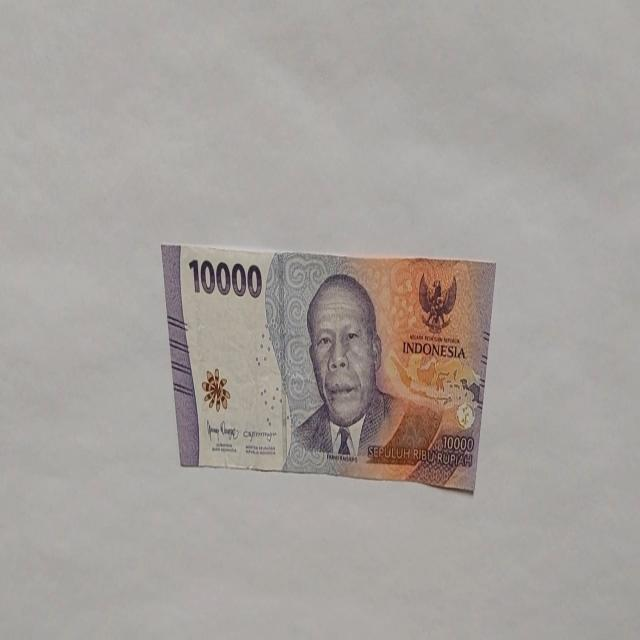sepuluh ribu rupiah: (159, 241, 496, 492)
